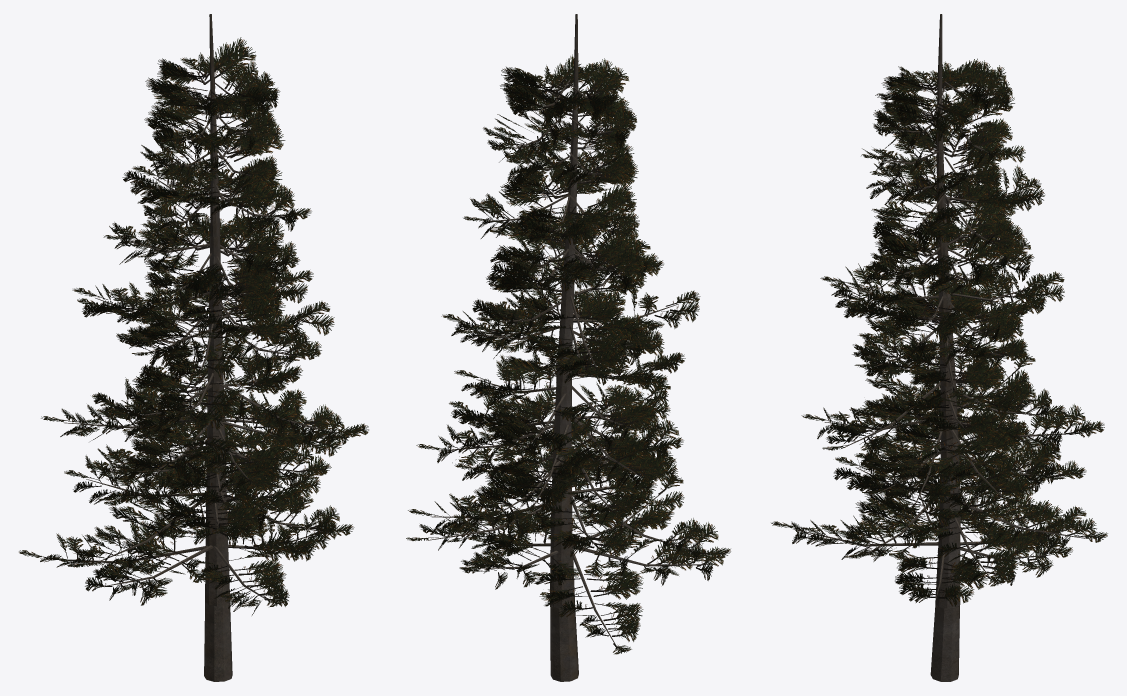
File: pine-1.glb
3 renders of one model, left to right at view 1: azimuth 30°, elevation 25°; view 2: azimuth 150°, elevation 25°; view 3: azimuth 270°, elevation 25°, orthographic.
Parts seen in each view (by area): view 1: Foliage 1, Trunk 1; view 2: Foliage 1, Trunk 1; view 3: Foliage 1, Trunk 1.
Part boxes in pixels (x1,y1,x2,y2): Foliage 1: (19,37,368,615); Trunk 1: (40,14,343,681); Foliage 1: (406,54,730,654); Trunk 1: (426,14,713,681); Foliage 1: (771,58,1107,606); Trunk 1: (793,14,1086,681).
Bounding box in the file's own units: 5.1 × 11.01 × 5.23.
Materials: 2 (2 with a texture image).
